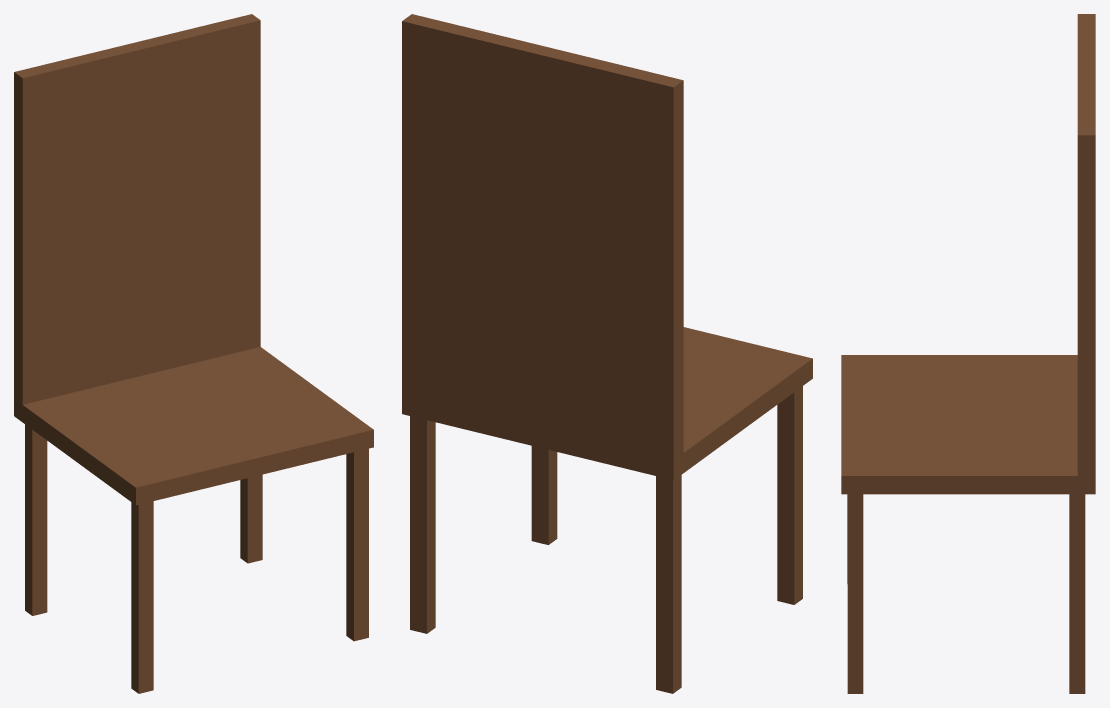
Rendered from Chair.fbx.
3 views of the same model, side by side, from view 1: azimuth 30°, elevation 25°; view 2: azimuth 150°, elevation 25°; view 3: azimuth 270°, elevation 25° (orthographic). The views are drawn at different scales.
Parts seen in each view (by area): view 1: pCube7; view 2: pCube7; view 3: pCube7.
Boxes of the visible parts, left/top/right/bottom form: pCube7: left=14, top=14, right=373, bottom=693; pCube7: left=402, top=14, right=812, bottom=693; pCube7: left=841, top=14, right=1095, bottom=693.
Bounding box in the file's own units: 54.44 × 117 × 48.29.
